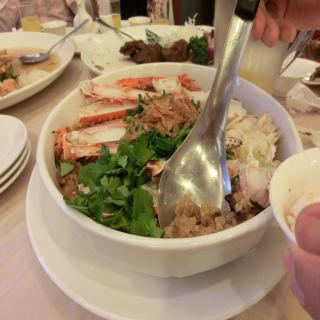Salad: (35, 62, 279, 268)
